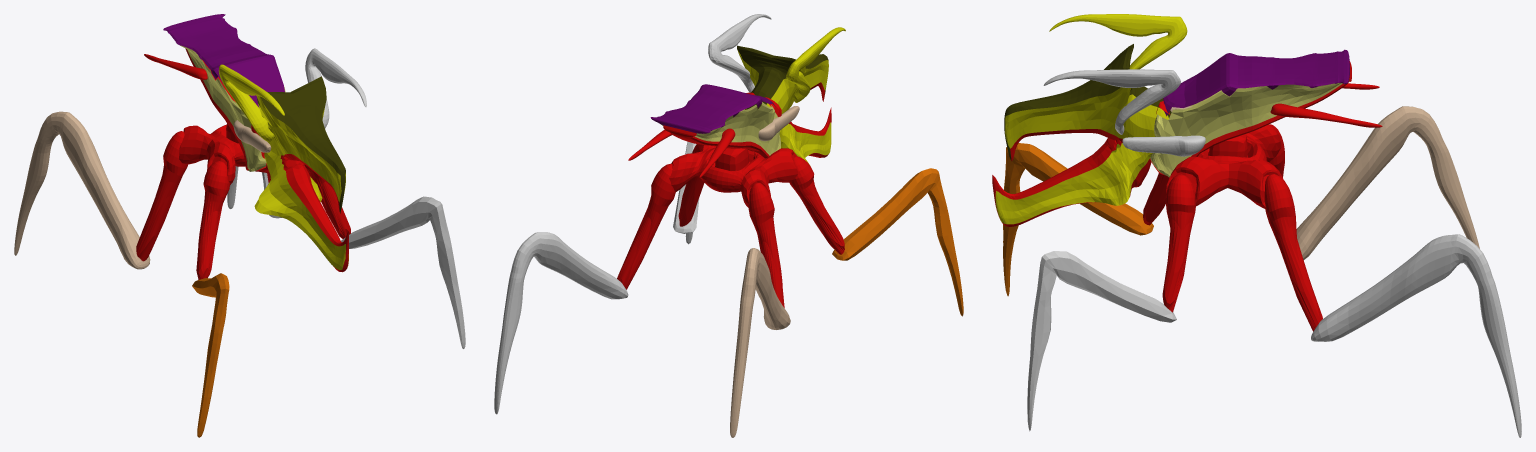
Rendered from aracnido_000021.obj.
3 views of the same model, side by side, from view 1: azimuth 30°, elevation 25°; view 2: azimuth 150°, elevation 25°; view 3: azimuth 270°, elevation 25° (orthographic). The views are drawn at different scales.
Parts seen in each view (by area): view 1: ARAK-BODY-; view 2: ARAK-BODY-; view 3: ARAK-BODY-.
Part boxes in pixels (x1,y1,x2,y2): ARAK-BODY-: (14, 14, 465, 437); ARAK-BODY-: (494, 14, 963, 437); ARAK-BODY-: (992, 14, 1521, 437).
Size of the model in its own units: 2.64 by 2.7 by 3.84.
